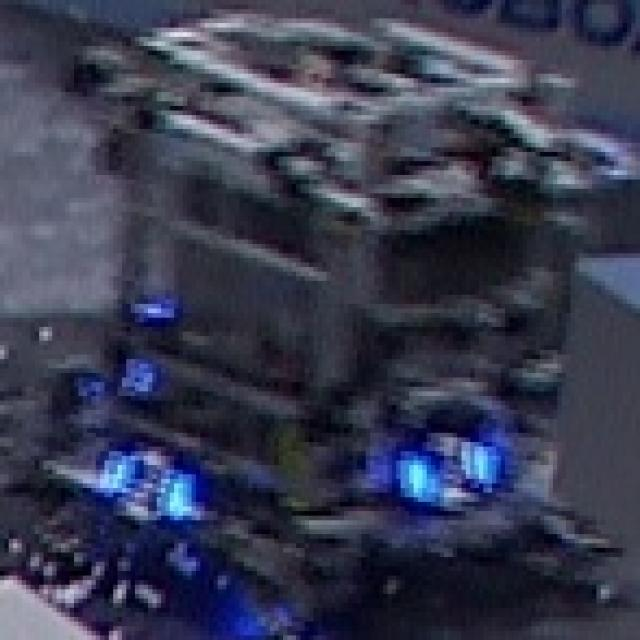B2: (76, 442, 198, 548), (392, 419, 514, 506)
